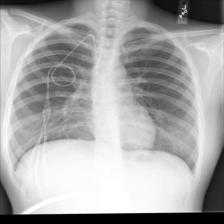normal: (5, 18, 203, 180)
